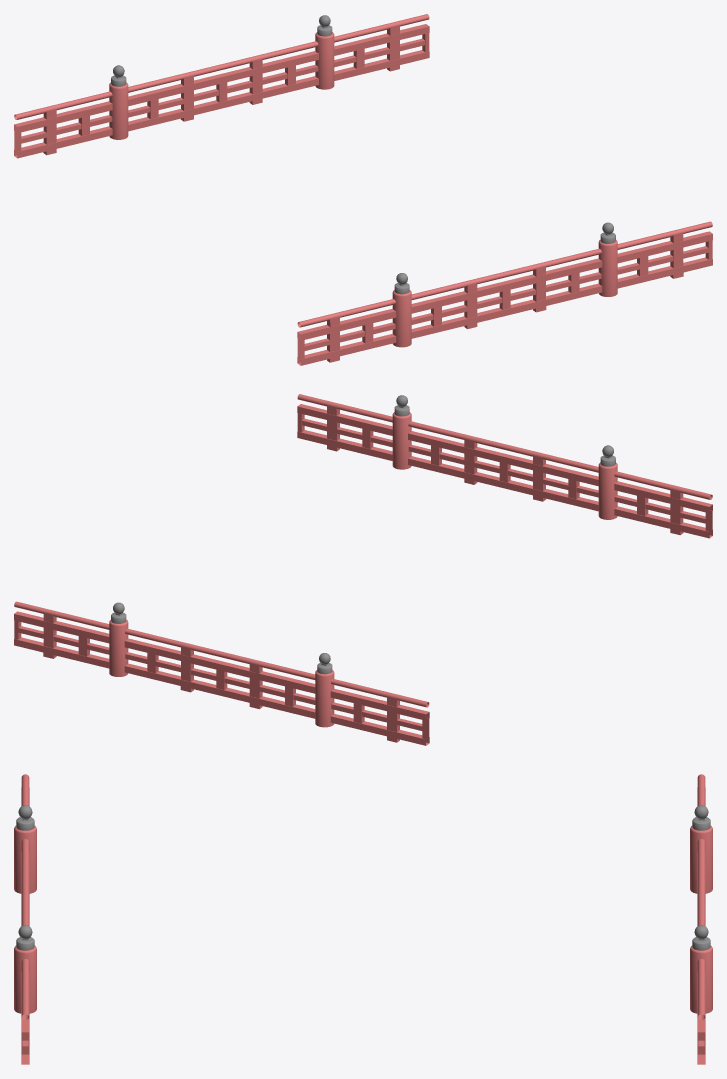
File: Just_Rails.fbx
The picture shows the model from 3 angles, top to bottom: view 1: azimuth 30°, elevation 25°; view 2: azimuth 150°, elevation 25°; view 3: azimuth 270°, elevation 25°; orthographic projection. The views are drawn at different scales.
Parts seen in each view (by area): view 1: BASE_LEVEL008; view 2: BASE_LEVEL008; view 3: BASE_LEVEL008.
Part boxes in pixels (left/top/right/bottom): BASE_LEVEL008: left=14, top=14, right=712, bottom=365; BASE_LEVEL008: left=14, top=394, right=712, bottom=745; BASE_LEVEL008: left=14, top=774, right=712, bottom=1064.
Bounding box in the file's own units: 452 × 73.71 × 557.
